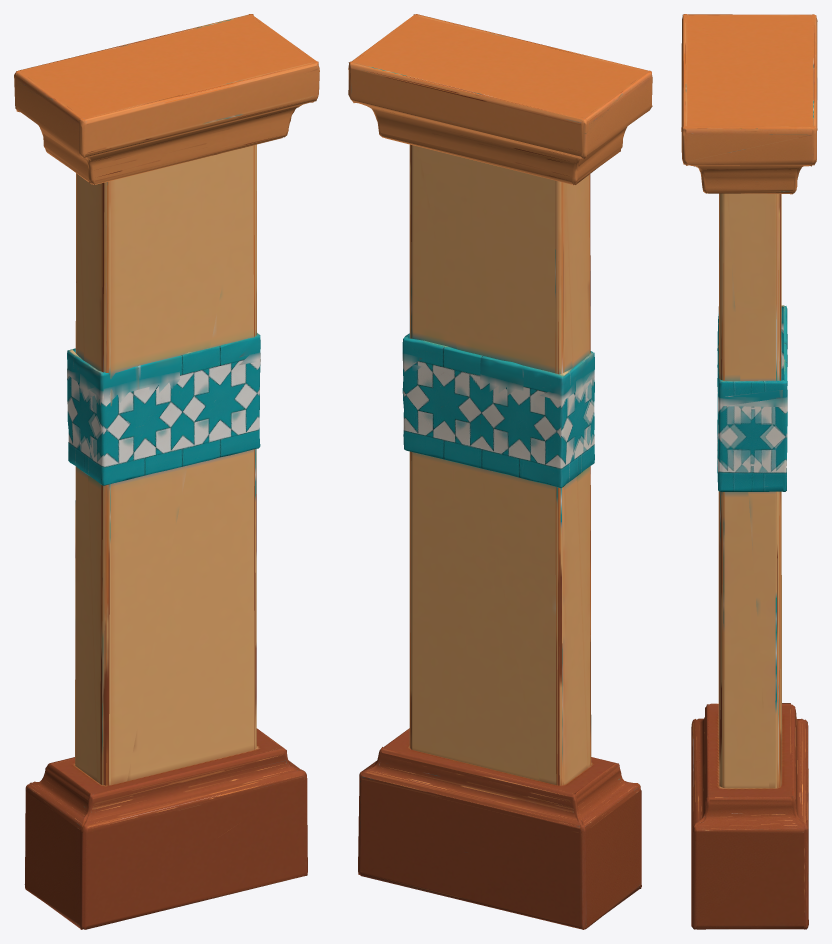
Rendered from column_pillar.glb.
The picture shows the model from 3 angles, left to right: view 1: azimuth 30°, elevation 25°; view 2: azimuth 150°, elevation 25°; view 3: azimuth 270°, elevation 25°; orthographic projection.
Bounding box in the file's own units: 0.3076 × 1 × 0.1533.
Materials: 1 (1 with a texture image).
